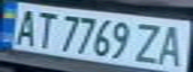6: (90, 17, 115, 59)
7: (54, 11, 81, 53), (75, 15, 96, 55)
9: (109, 18, 136, 61)
A: (154, 21, 190, 68), (9, 6, 42, 47)
T: (30, 8, 60, 50)
Z: (130, 20, 163, 65)
